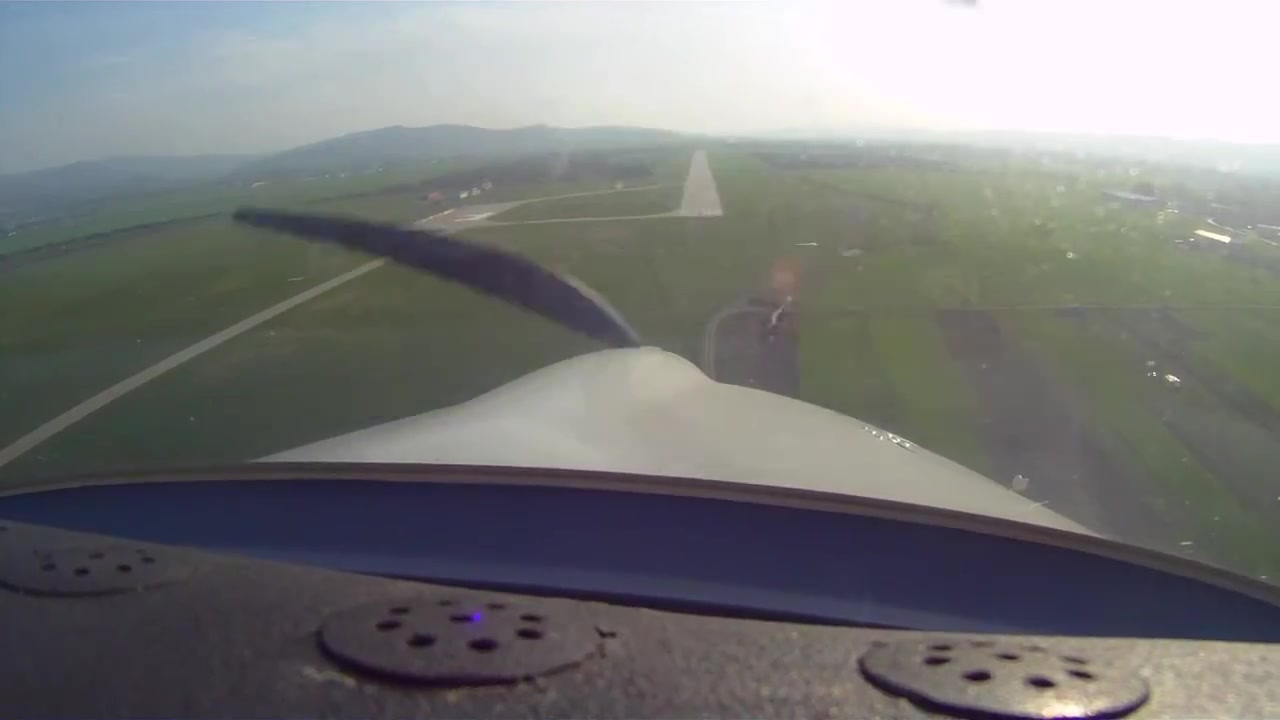runway: (678, 149, 724, 220)
